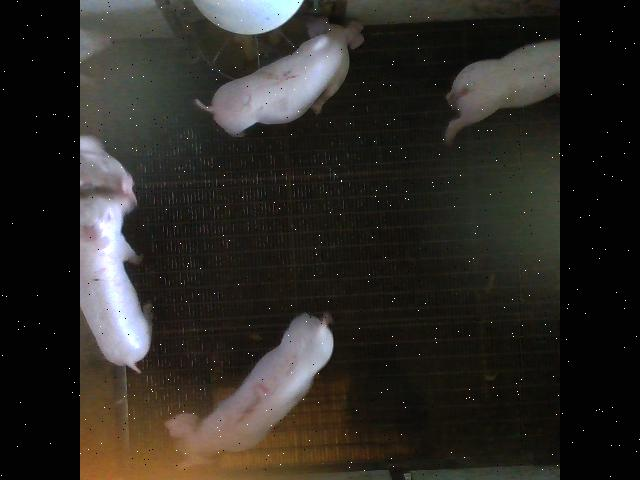pig-3: (166, 312, 334, 464)
